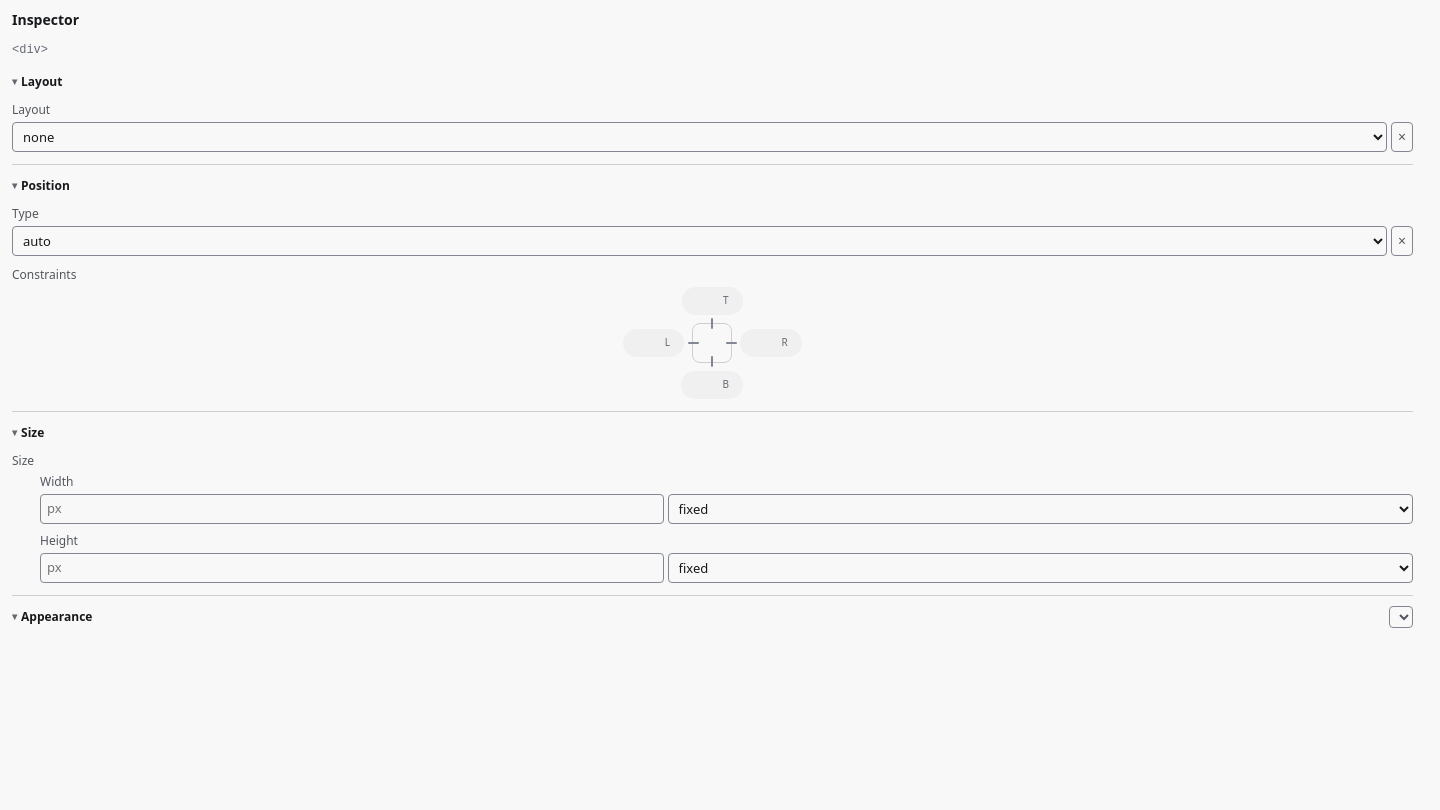
Test: Inspector › disables the clear button while a property is unset
Select "Padding" in the dropdown with class "group__add": (1401, 617) [1389, 606, 1413, 628]
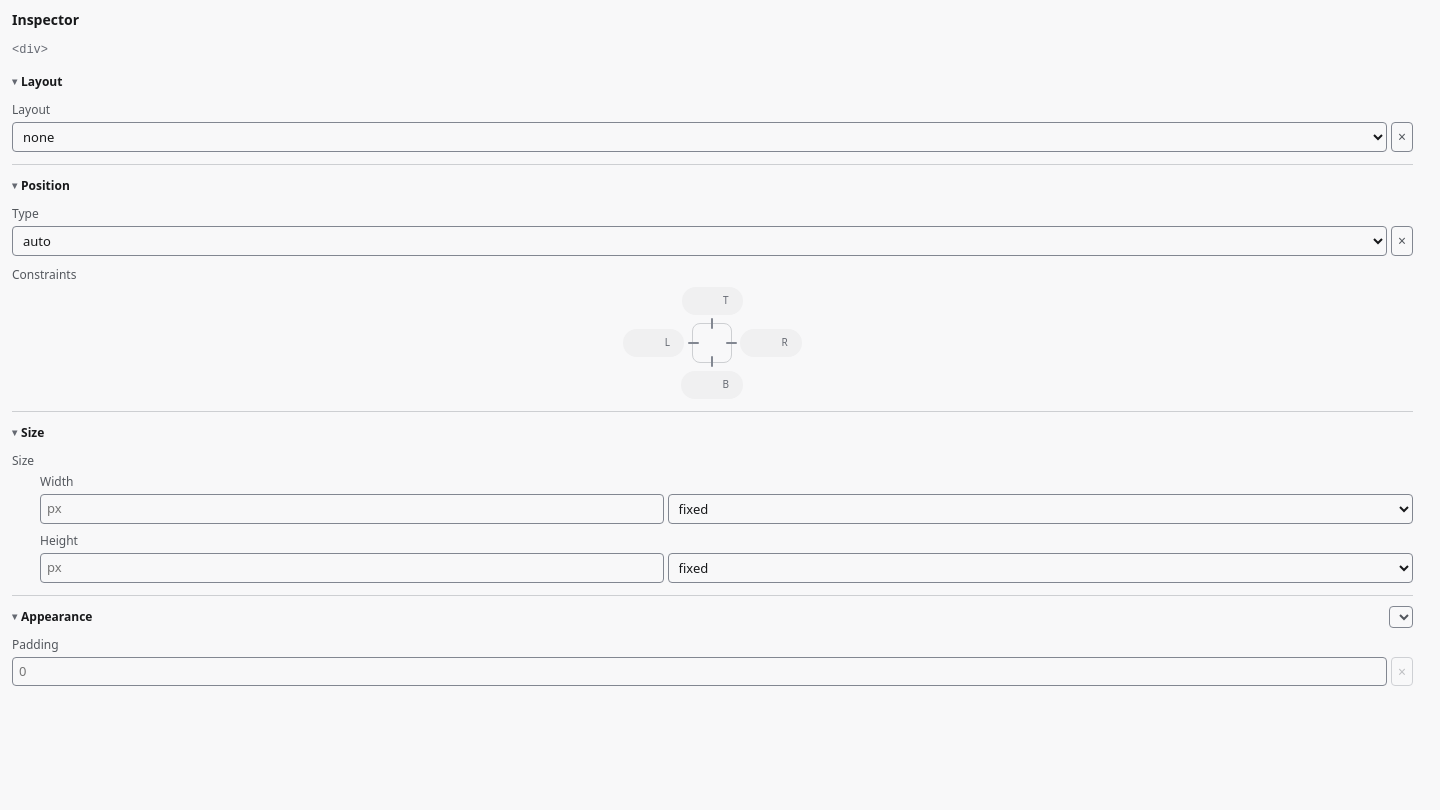
Result: the button named "Clear Padding" is disabled at [1391, 657, 1413, 686]
